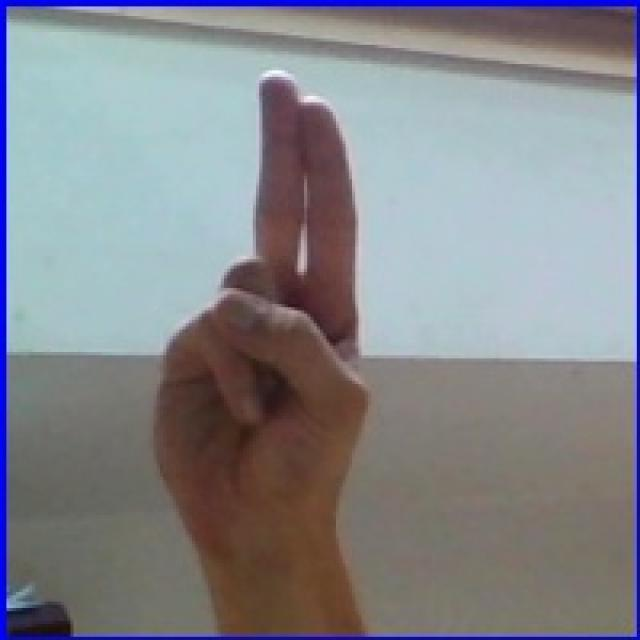Letra-U: (123, 59, 414, 541)
